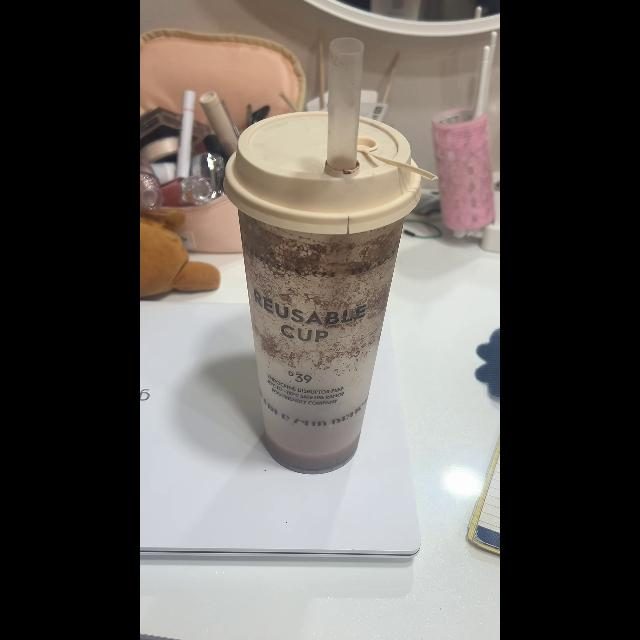dirty: (238, 204, 402, 466)
